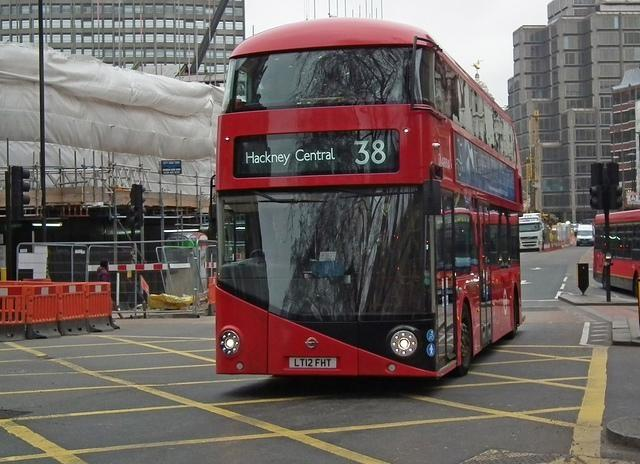bus: (214, 19, 526, 380), (593, 209, 640, 299)
car: (576, 225, 594, 246)
truck: (519, 212, 553, 252)
